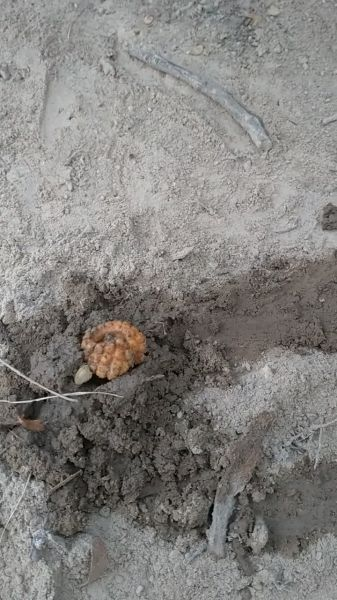eggs: (78, 312, 154, 388)
